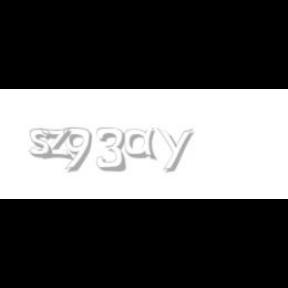3: (96, 128, 128, 172)
9: (64, 128, 92, 172)
a: (124, 128, 162, 160)
s: (29, 128, 57, 160)
y: (157, 128, 197, 172)
z: (40, 128, 76, 160)
